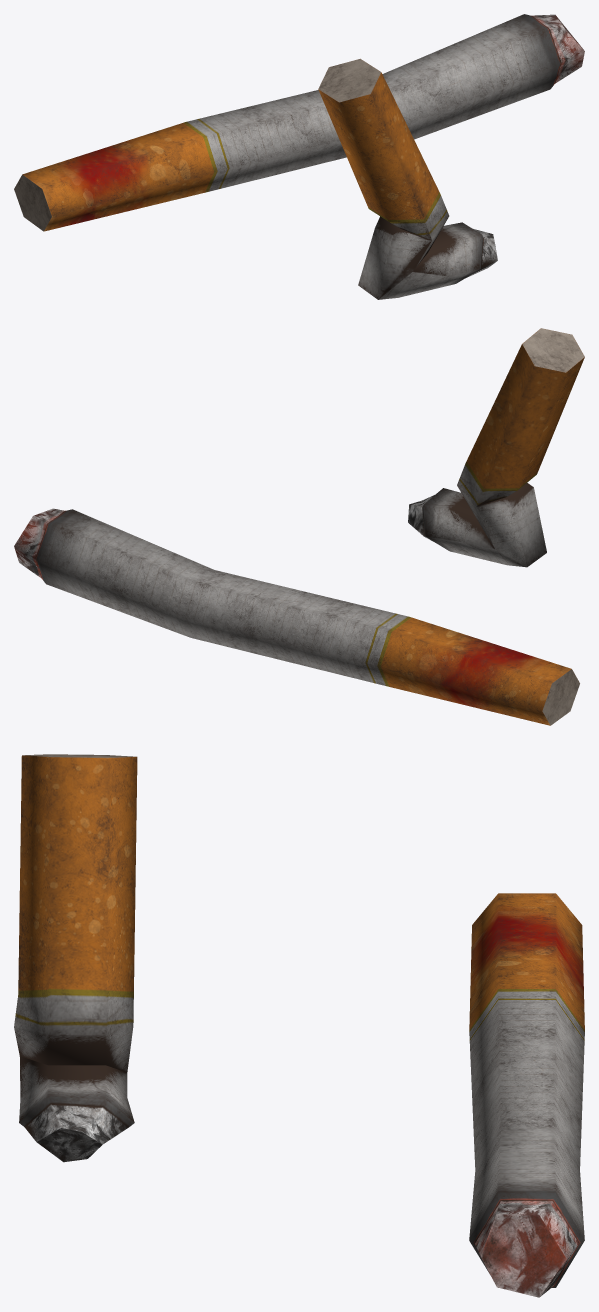
Rendered from cigarettes_-_lit_used_2_piece_set.glb.
3 views of the same model, one above another, from view 1: azimuth 30°, elevation 25°; view 2: azimuth 150°, elevation 25°; view 3: azimuth 270°, elevation 25° (orthographic). The views are drawn at different scales.
Parts seen in each view (by area): view 1: Cigarette_01_GEO_1, Cigarette_02_GEO_0; view 2: Cigarette_01_GEO_1, Cigarette_02_GEO_0; view 3: Cigarette_02_GEO_0, Cigarette_01_GEO_1.
Boxes of the visible parts, x1,y1,x2,y2 form: Cigarette_01_GEO_1: [14, 14, 584, 231]; Cigarette_02_GEO_0: [318, 58, 497, 299]; Cigarette_01_GEO_1: [14, 508, 579, 725]; Cigarette_02_GEO_0: [408, 328, 584, 567]; Cigarette_02_GEO_0: [14, 754, 137, 1162]; Cigarette_01_GEO_1: [469, 893, 584, 1297].
Bounding box in the file's own units: 0.0916 × 0.037 × 0.0578.
1 material, 1 textured.
